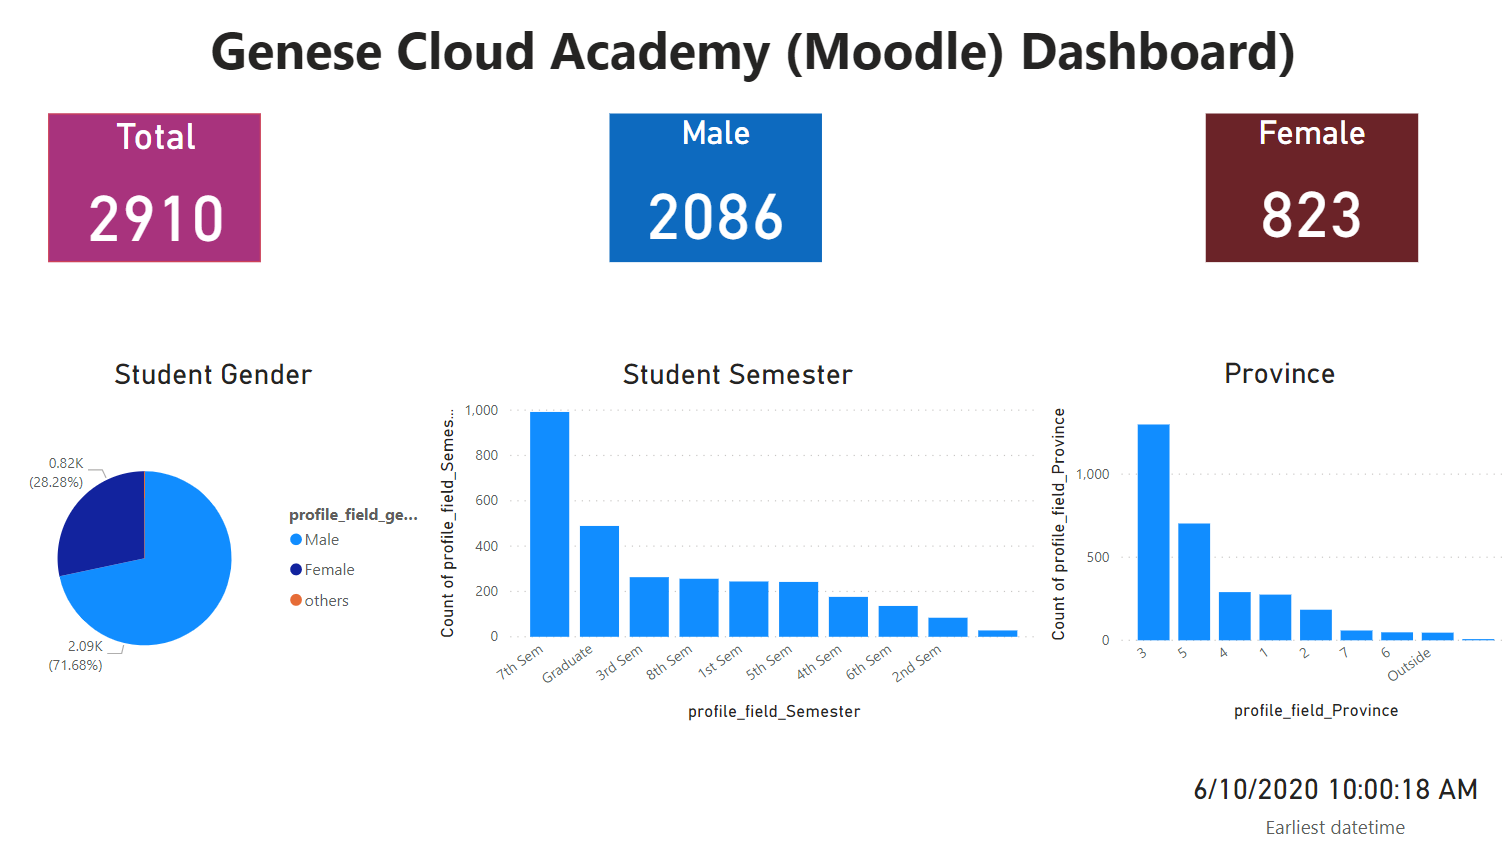

What the dashboard file says about the page in this screenshot:
{"tool":"powerbi","page":{"name":"Dashboard","canvas":[1280,720],"ordinal":0},"visuals":[{"type":"pieChart","title":"Student Gender","fields":{"Category":["user_latest.profile_field_gender1"],"Series":["user_latest.profile_field_gender1"],"Y":["CountNonNull(user_latest.profile_field_gender)"]},"box":[2.1,303.2,367.2,310.5],"z":0},{"type":"columnChart","title":"Student Semester","fields":{"Category":["user_latest.profile_field_Semester1"],"Y":["CountNonNull(user_latest.profile_field_Semester)1"]},"box":[369.4,303.2,513.4,310.5],"z":1000},{"type":"columnChart","title":"Province","fields":{"Category":["user_latest.profile_field_Province1"],"Y":["CountNonNull(user_latest.profile_field_Province)1"]},"box":[882.3,302.7,397.4,310.5],"z":2000},{"type":"card","title":"Total","fields":{"Values":["CountNonNull(user_latest.id)"]},"box":[47.1,98.8,178.8,124.4],"z":3000},{"type":"card","title":"Male","fields":{"Values":["CountNonNull(user_latest.profile_field_gender)"]},"box":[518.2,98.8,178.8,124.4],"z":4000},{"type":"card","title":"Female","fields":{"Values":["CountNonNull(user_latest.profile_field_gender)"]},"box":[1019.5,98.8,178.8,124.4],"z":5000},{"type":"textbox","box":[0,10.9,1279.3,72.5],"z":6000},{"type":"card","fields":{"Values":["Min(Kathmandu.datetime)"]},"box":[994.2,641.5,268.2,68.9],"z":7000}]}

Visuals, with their boxes in screenshot pixels (x1, y1, x2, y2), scaled from the page's 1280x720 canvas onto the 1507x847 screenshot:
"Student Gender" pieChart: {"left": 2, "top": 357, "right": 435, "bottom": 722}
"Student Semester" columnChart: {"left": 435, "top": 357, "right": 1039, "bottom": 722}
"Province" columnChart: {"left": 1039, "top": 356, "right": 1506, "bottom": 721}
"Total" card: {"left": 55, "top": 116, "right": 266, "bottom": 263}
"Male" card: {"left": 610, "top": 116, "right": 821, "bottom": 263}
"Female" card: {"left": 1200, "top": 116, "right": 1411, "bottom": 263}
textbox: {"left": 0, "top": 13, "right": 1506, "bottom": 98}
card - Min(Kathmandu.datetime): {"left": 1171, "top": 755, "right": 1486, "bottom": 836}
